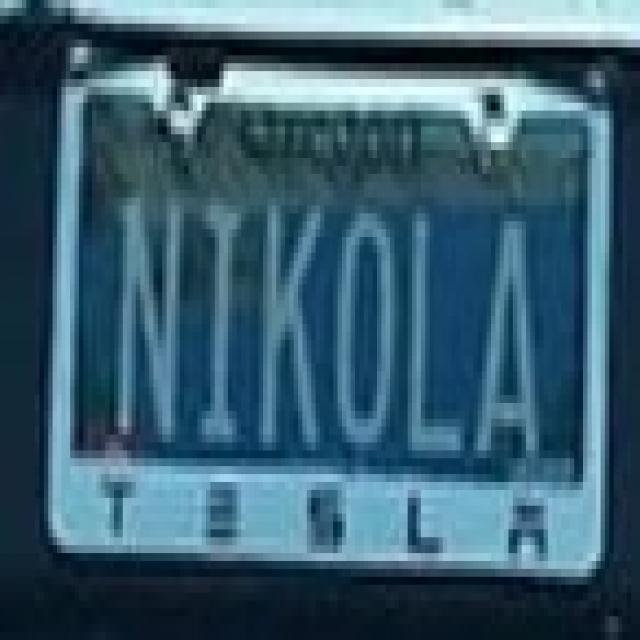licenseplate: (44, 68, 614, 581)
